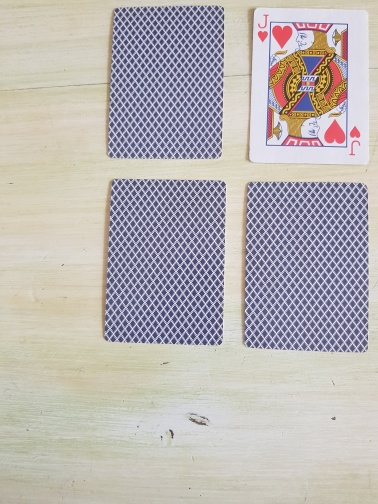jack: (247, 7, 371, 165)
